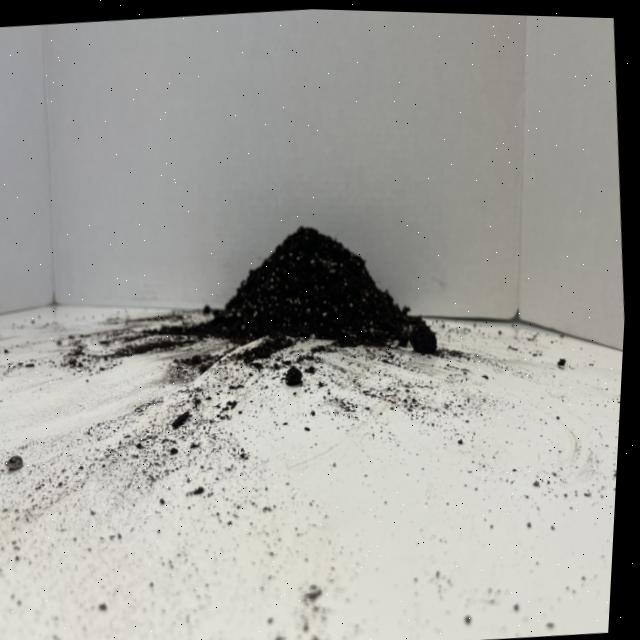soil: (196, 207, 446, 376)
